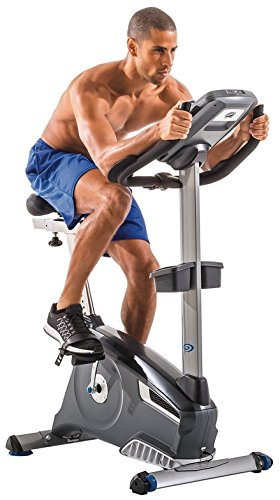gym_bike: (11, 91, 275, 493)
